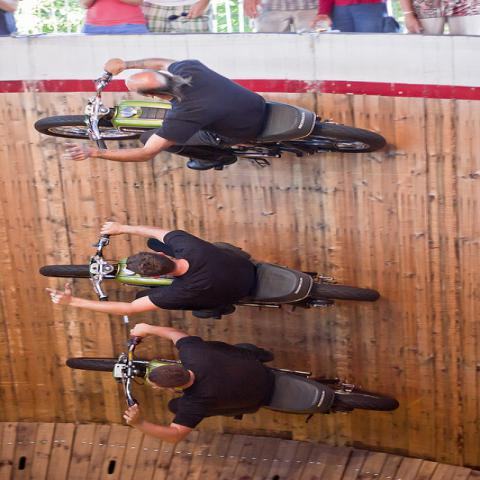motorcycle: (36, 74, 389, 168), (66, 338, 402, 425), (234, 260, 378, 315)
